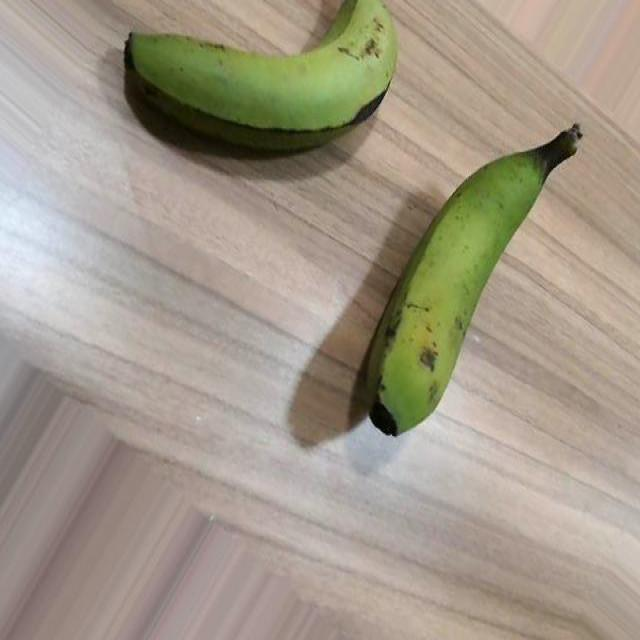Unripe: (363, 122, 584, 440), (123, 0, 400, 156)
